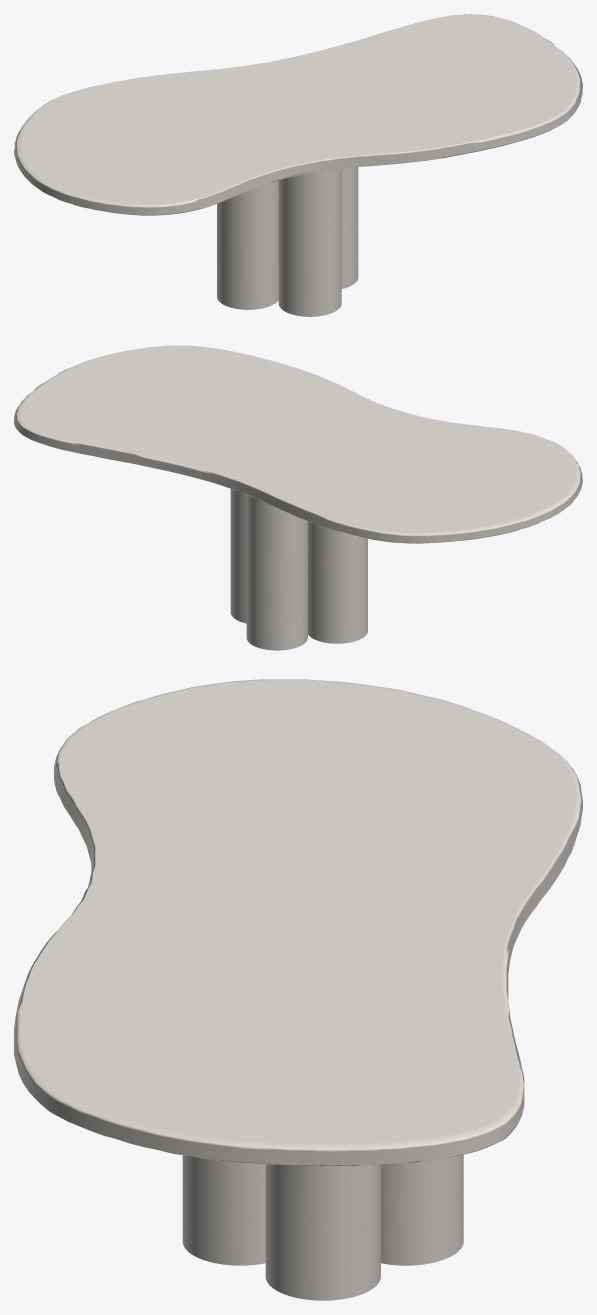
Rendered from pearlwhite_wave_round_secondtable.glb.
3 renders of one model, top to bottom at view 1: azimuth 30°, elevation 25°; view 2: azimuth 150°, elevation 25°; view 3: azimuth 270°, elevation 25°, orthographic. The views are drawn at different scales.
Visible parts, largest first — view 1: round_wave, secondtable; view 2: round_wave, secondtable; view 3: round_wave, secondtable.
Part boxes in pixels (bbox=[...]): round_wave: bbox=[14, 14, 582, 215]; secondtable: bbox=[217, 167, 358, 316]; round_wave: bbox=[14, 345, 582, 543]; secondtable: bbox=[230, 489, 367, 650]; round_wave: bbox=[14, 679, 582, 1165]; secondtable: bbox=[182, 1154, 463, 1300].
Size of the model in its own units: 7.7 by 2.5 by 3.89.
1 material, 1 textured.
